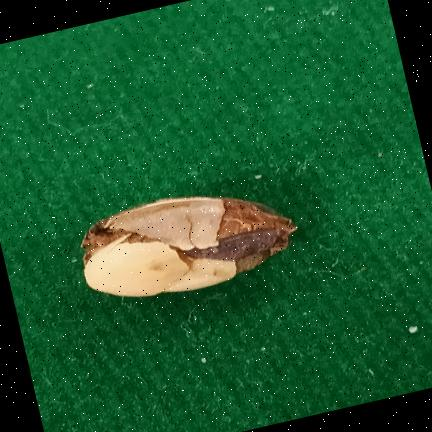full-black: (82, 197, 297, 297)
